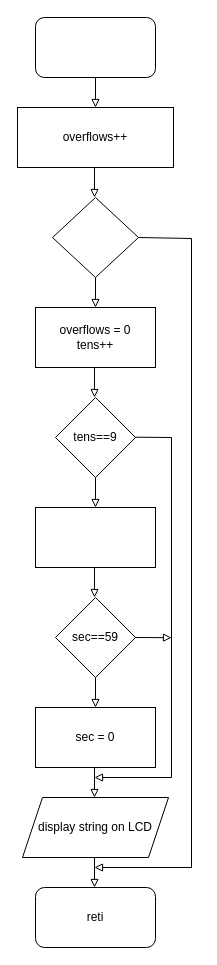
Image size: 217x965. Some labels were removed from this diagram. Each missing label, with the centre of its shape:
"overflows==6" goes at point 95,237.
"tens = 0 sec++" goes at point 95,537.
"TIMER_OVF_vect" goes at point 95,47.
